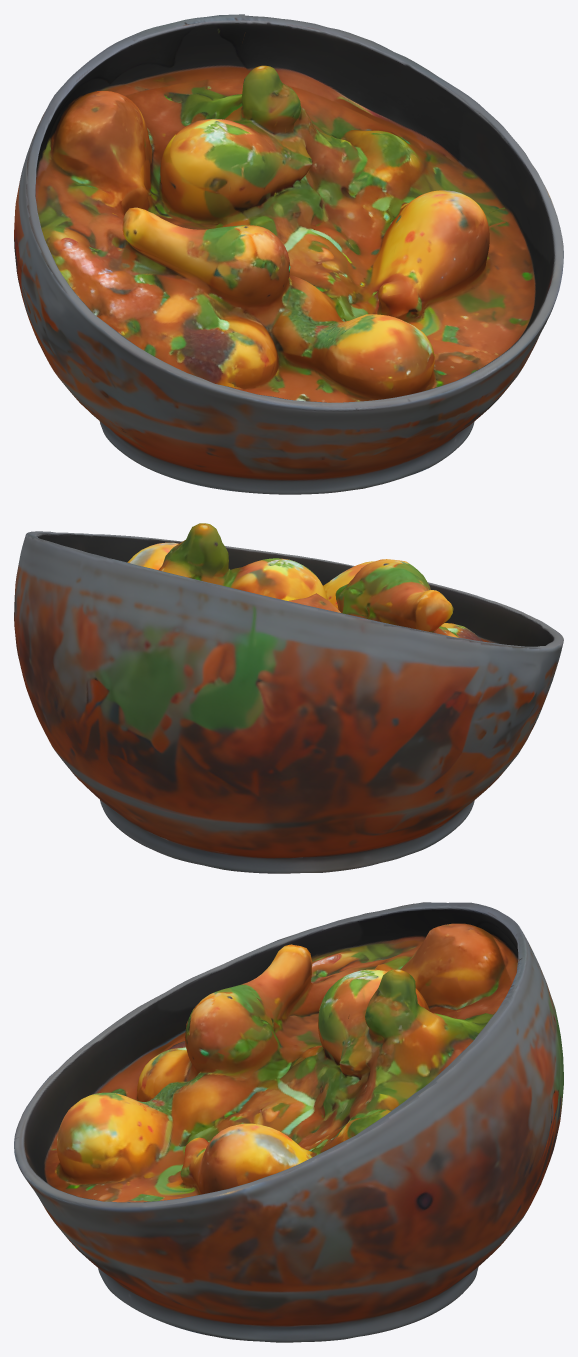
File: footer_img.glb
3 views of the same model, one above another, from view 1: azimuth 30°, elevation 25°; view 2: azimuth 150°, elevation 25°; view 3: azimuth 270°, elevation 25° (orthographic).
Visible parts, largest first — view 1: model; view 2: model; view 3: model.
Boxes of the visible parts, bbox=[...] form: model: bbox=[14, 14, 563, 494]; model: bbox=[14, 523, 563, 873]; model: bbox=[14, 902, 563, 1342].
Bounding box in the file's own units: 1.89 × 1.15 × 1.84.
1 material, 1 textured.
